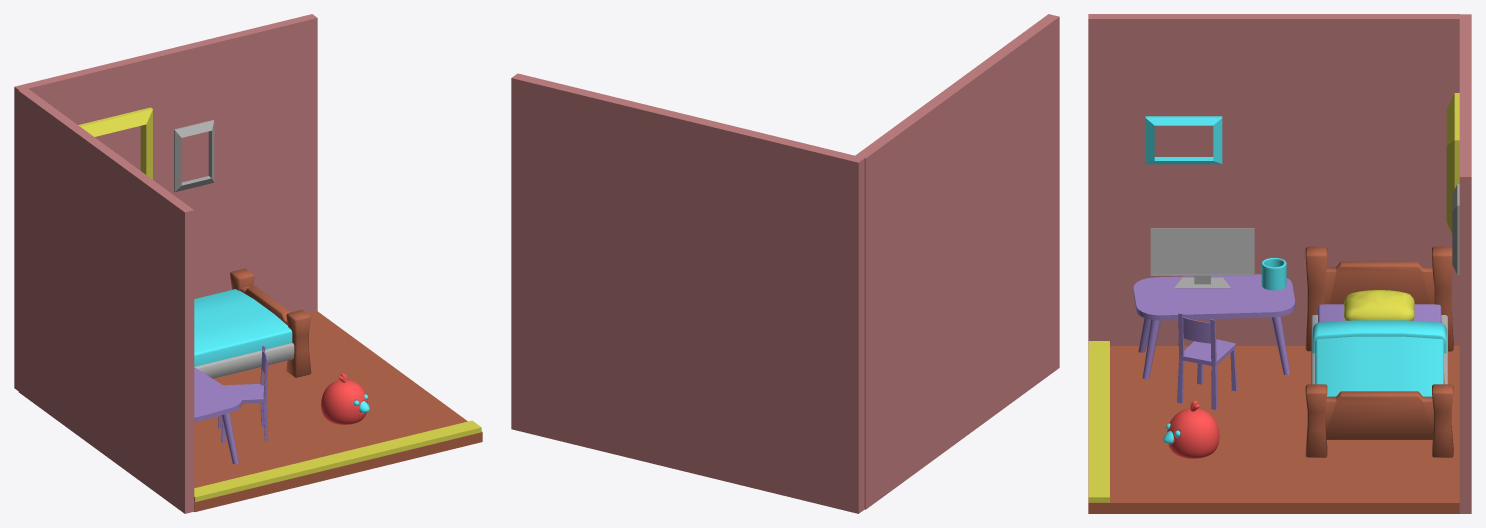
The picture shows the model from 3 angles, left to right: view 1: azimuth 30°, elevation 25°; view 2: azimuth 150°, elevation 25°; view 3: azimuth 270°, elevation 25°; orthographic projection. The views are drawn at different scales.
Visible parts, largest first — view 1: Plane.001, Plane.002, Plane, Bed, Plane.003, Sphere.003, Plane.006, Cube.001_Cube.002, Plane.004, Cube.011; view 2: Plane.002, Plane.001; view 3: Plane.001, Plane, Bed, Plane.002, Cube.001_Cube.002, Cube.000, Plane.003, Cube.011, Sphere.003, Plane.005, Plane.006, Cylinder (+2 smaller).
Boxes of the visible parts, box(x1,y1,x2,y2) form: Plane.001: box(18, 88, 194, 513); Plane.002: box(14, 14, 317, 390); Plane: box(194, 310, 482, 511); Bed: box(194, 268, 311, 378); Plane.003: box(194, 420, 481, 501); Sphere.003: box(321, 373, 369, 424); Plane.006: box(78, 107, 152, 179); Cube.001_Cube.002: box(194, 367, 241, 422); Plane.004: box(174, 120, 214, 192); Cube.011: box(218, 345, 268, 442); Plane.002: box(511, 73, 864, 513); Plane.001: box(855, 14, 1059, 509); Plane.001: box(1088, 14, 1459, 345); Plane: box(1088, 341, 1459, 513); Bed: box(1305, 246, 1453, 457); Plane.002: box(1459, 14, 1471, 513); Cube.001_Cube.002: box(1133, 274, 1295, 320); Cube.000: box(1150, 228, 1254, 288); Plane.003: box(1088, 341, 1109, 502); Cube.011: box(1177, 313, 1237, 409); Sphere.003: box(1163, 400, 1219, 458); Plane.005: box(1145, 116, 1222, 164); Plane.006: box(1446, 93, 1459, 233); Cylinder: box(1138, 316, 1290, 379).
Bounding box in the file's own units: 2.63 × 2.54 × 2.62.
